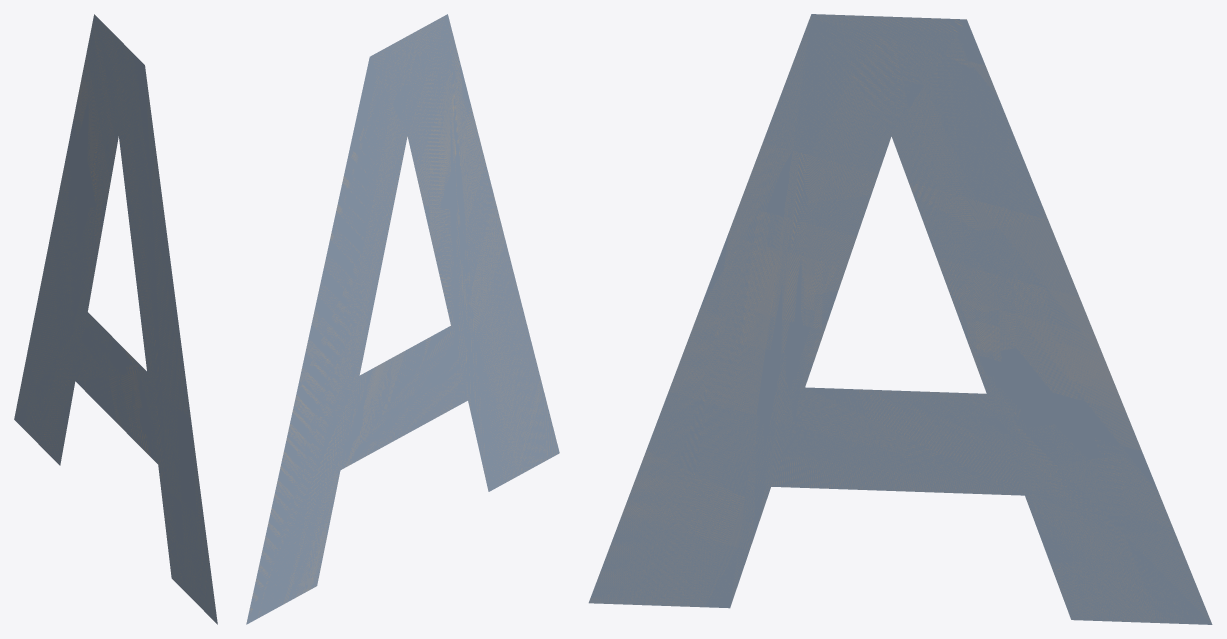
File: original-46.obj
3 renders of one model, left to right at view 1: azimuth 30°, elevation 25°; view 2: azimuth 150°, elevation 25°; view 3: azimuth 270°, elevation 25°, orthographic. The views are drawn at different scales.
Parts seen in each view (by area): view 1: #ID242; view 2: #ID242; view 3: #ID242.
Boxes of the visible parts, box(x1,y1,x2,y2) form: #ID242: box(14, 14, 217, 624); #ID242: box(246, 14, 559, 624); #ID242: box(588, 14, 1212, 624).
Size of the model in its own units: 0.00387 by 0.0359 by 0.0338.
